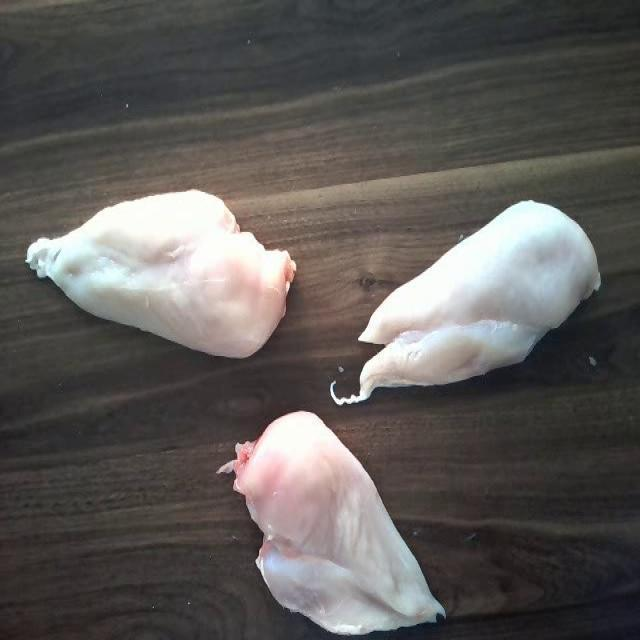breast: (329, 197, 594, 377), (34, 182, 288, 361), (235, 410, 438, 630)
